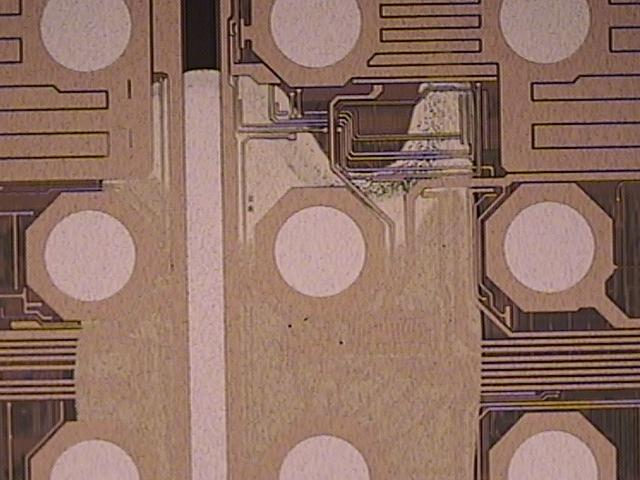BLOCK ETCH: (68, 68, 482, 480)
